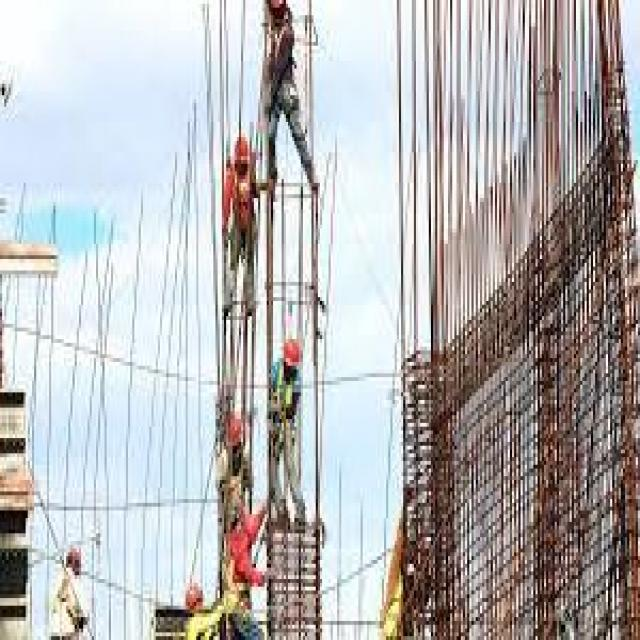Reflective-Jacket: (220, 178, 266, 282), (263, 357, 298, 458)
Safety-Helmet: (62, 537, 89, 575), (224, 412, 245, 454), (282, 335, 305, 370), (230, 133, 252, 168)
